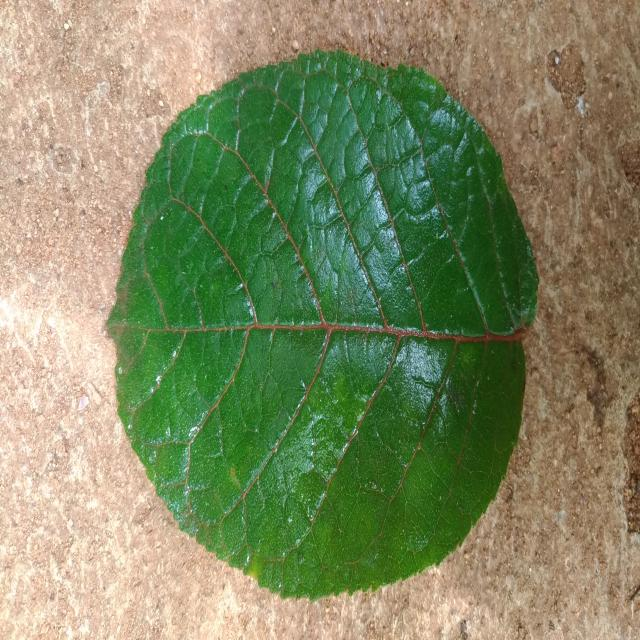padri: (108, 51, 538, 600)
